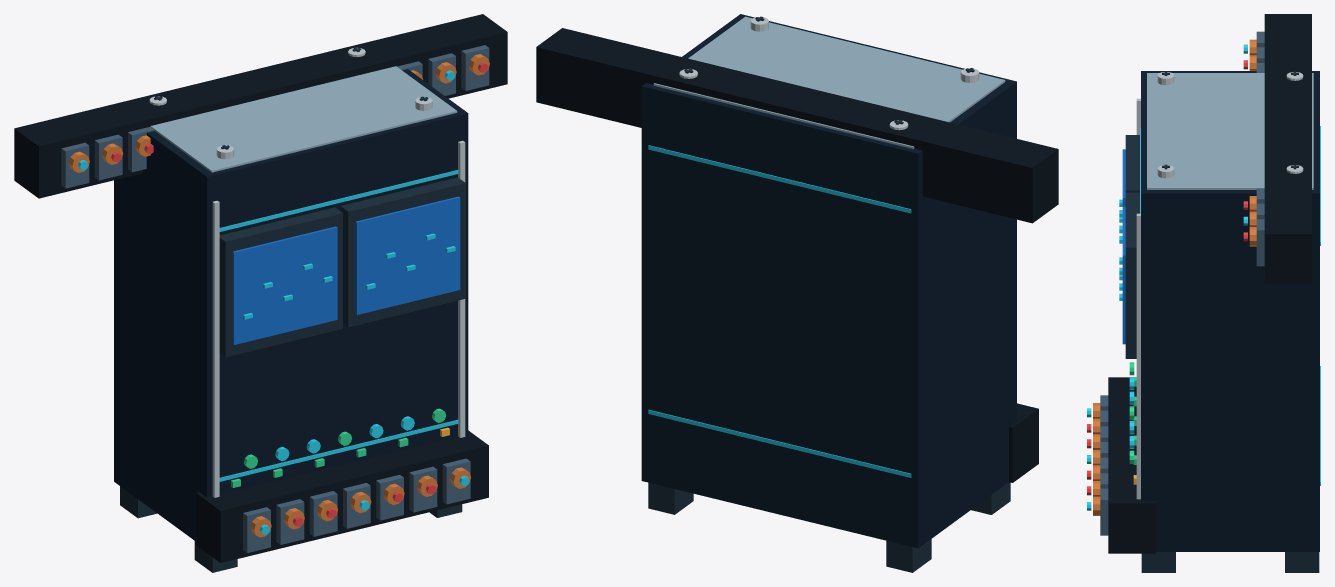
File: 39_L78_LowKFTIRBondingAnalyzer.fbx
3 views of the same model, side by side, from view 1: azimuth 30°, elevation 25°; view 2: azimuth 150°, elevation 25°; view 3: azimuth 270°, elevation 25° (orthographic). The views are drawn at different scales.
Visible parts, largest first — view 1: LowKFTIRBondingAnalyzer; view 2: LowKFTIRBondingAnalyzer; view 3: LowKFTIRBondingAnalyzer.
Part boxes in pixels (x1,y1,x2,y2): LowKFTIRBondingAnalyzer: [14, 14, 507, 572]; LowKFTIRBondingAnalyzer: [536, 14, 1058, 572]; LowKFTIRBondingAnalyzer: [1087, 14, 1320, 572].
Bounding box in the file's own units: 197 × 165 × 88.72.
